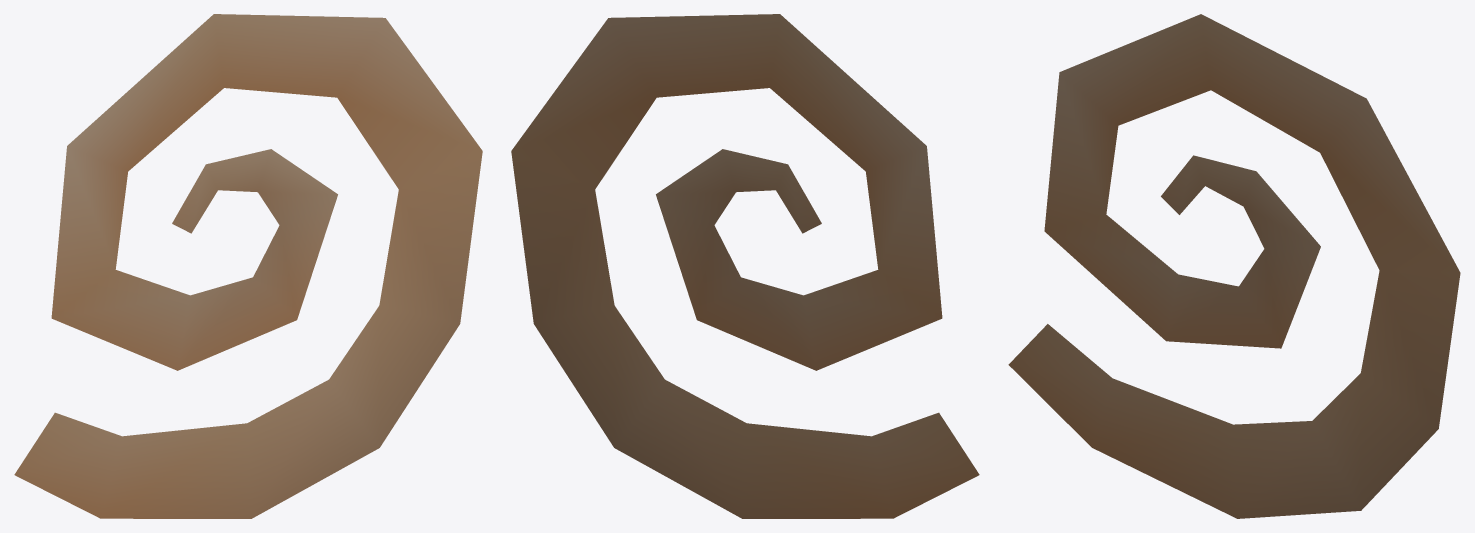
File: CavePaintingSpiral.glb
The picture shows the model from 3 angles, left to right: view 1: azimuth 30°, elevation 25°; view 2: azimuth 150°, elevation 25°; view 3: azimuth 330°, elevation 25°; orthographic projection. The views are drawn at different scales.
Visible parts, largest first — view 1: CavePaintingSpiral; view 2: CavePaintingSpiral; view 3: CavePaintingSpiral.
Part boxes in pixels (x1,y1,x2,y2): CavePaintingSpiral: (14,14,482,518); CavePaintingSpiral: (511,14,979,518); CavePaintingSpiral: (1008,14,1460,518).
Size of the model in its own units: 0.1439 by 0.1509 by 1.27e-07.
